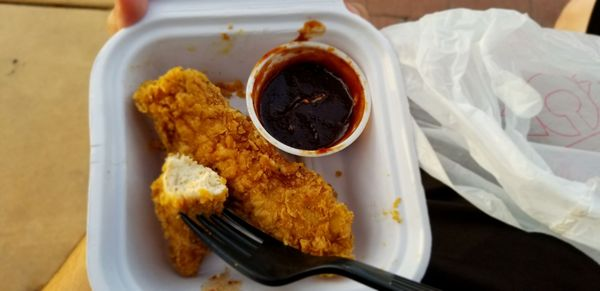burger: (186, 206, 423, 291)
sushi: (246, 40, 371, 158)
